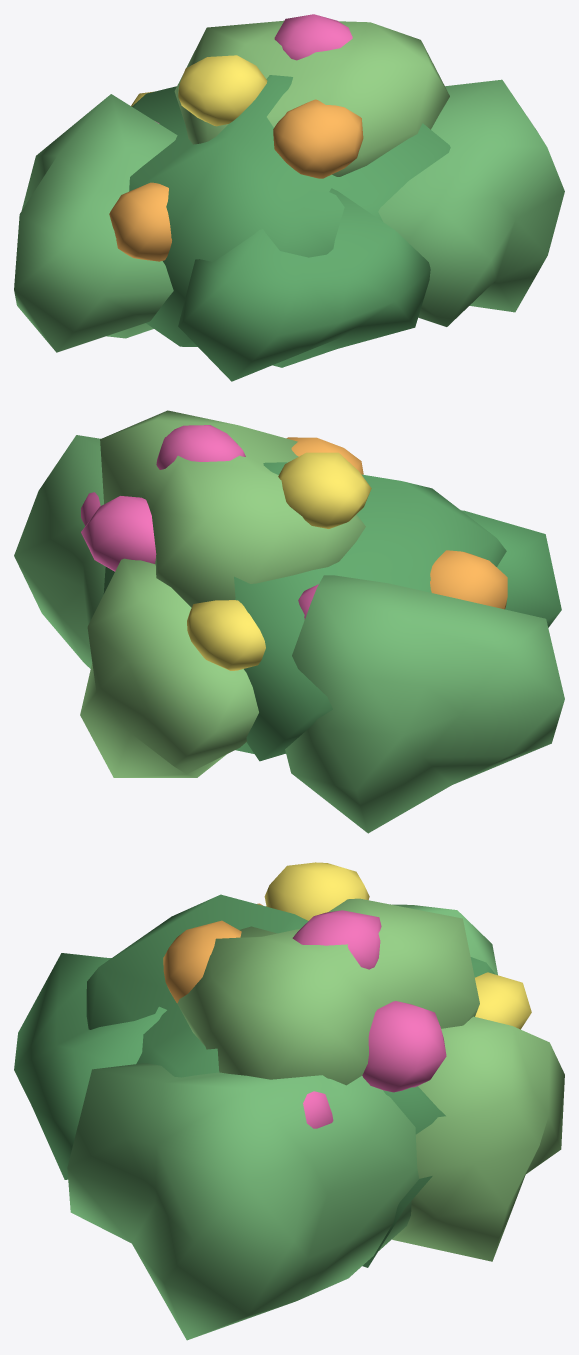
File: bush_tropical.glb
3 renders of one model, top to bottom at view 1: azimuth 30°, elevation 25°; view 2: azimuth 150°, elevation 25°; view 3: azimuth 270°, elevation 25°, orthographic. The views are drawn at different scales.
Parts seen in each view (by area): view 1: BushFoliage_0, BushFoliage_2, BushFoliage_4, BushFoliage_1, BushFoliage_5, BougenFlower_2, BougenFlower_7, BougenFlower_5, BougenFlower_6; view 2: BushFoliage_1, BushFoliage_5, BushFoliage_3, BushFoliage_0, BushFoliage_2, BougenFlower_7, BushFoliage_4, BougenFlower_3, BougenFlower_1, BougenFlower_5, BougenFlower_6, BougenFlower_2; view 3: BushFoliage_2, BushFoliage_5, BushFoliage_3, BushFoliage_0, BushFoliage_4, BougenFlower_1, BougenFlower_7, BougenFlower_6, BougenFlower_2, BougenFlower_3, BushFoliage_1, BougenFlower_4.
Part boxes in pixels (x1,y1,x2,y2): BushFoliage_0: (129, 75, 450, 346); BushFoliage_2: (378, 79, 564, 326); BushFoliage_4: (178, 188, 430, 381); BushFoliage_1: (14, 94, 177, 352); BushFoliage_5: (174, 20, 449, 176); BougenFlower_2: (273, 99, 363, 178); BougenFlower_7: (178, 55, 267, 126); BougenFlower_5: (109, 182, 171, 261); BougenFlower_6: (274, 14, 352, 60); BushFoliage_1: (285, 575, 564, 833); BushFoliage_5: (100, 410, 365, 607); BushFoliage_3: (80, 558, 258, 777); BushFoliage_0: (103, 462, 506, 761); BushFoliage_2: (14, 435, 105, 668); BougenFlower_7: (278, 452, 371, 528); BushFoliage_4: (461, 510, 561, 627); BougenFlower_3: (187, 600, 265, 670); BougenFlower_1: (81, 496, 156, 571); BougenFlower_5: (430, 550, 507, 609); BougenFlower_6: (156, 425, 245, 469); BougenFlower_2: (286, 437, 363, 474); BushFoliage_2: (67, 1063, 419, 1340); BushFoliage_5: (177, 898, 479, 1085); BushFoliage_3: (392, 1016, 564, 1261); BushFoliage_0: (86, 894, 495, 1267); BushFoliage_4: (14, 953, 166, 1179); BougenFlower_1: (362, 1001, 446, 1092); BougenFlower_7: (264, 862, 369, 920); BougenFlower_6: (292, 910, 381, 969); BougenFlower_2: (163, 920, 241, 1003); BougenFlower_3: (475, 972, 531, 1029); BushFoliage_1: (266, 904, 497, 975); BougenFlower_4: (303, 1091, 333, 1128).
Bounding box in the file's own units: 2.75 × 1.52 × 2.11.
